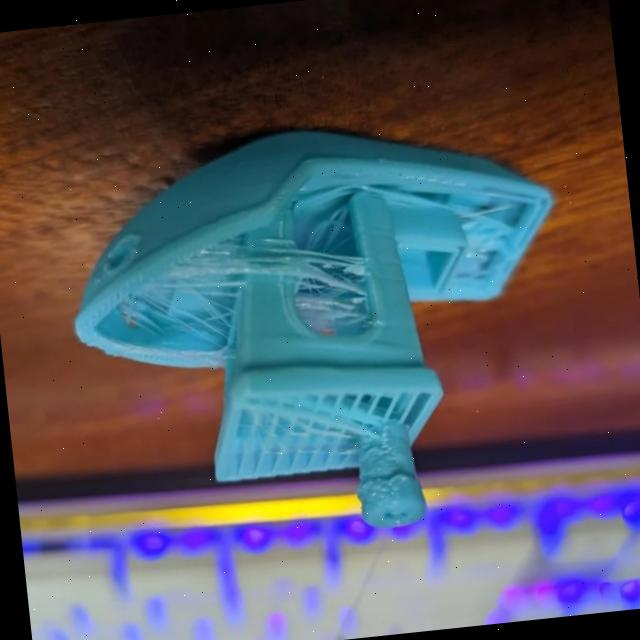stringing: (128, 234, 268, 358), (278, 244, 380, 338)
